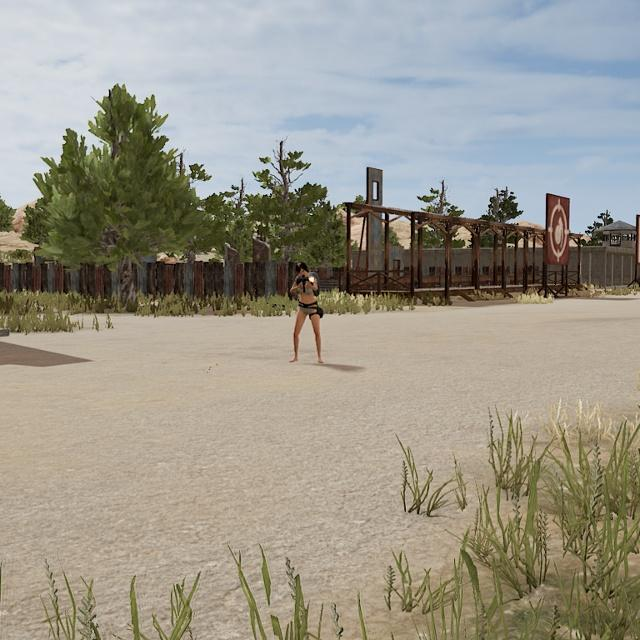head: (293, 261, 312, 279)
people: (287, 259, 326, 366)
